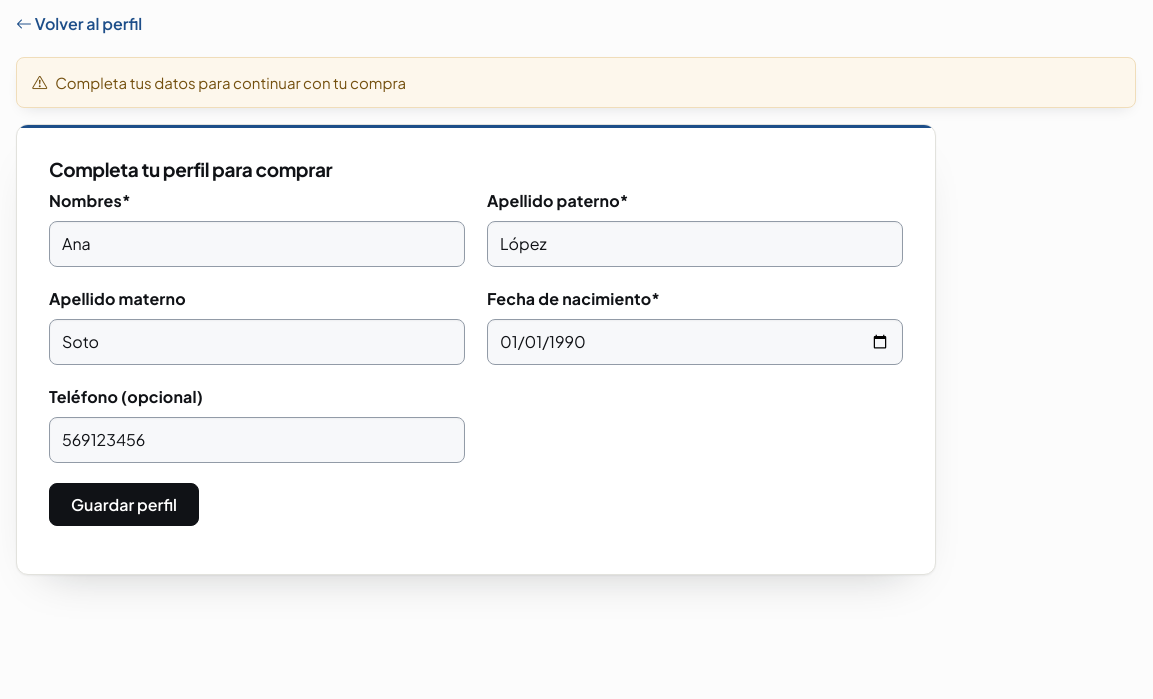
CustomerProfile › muestra un aviso para el comprador si el backend conserva perfilCompleto en false
This screenshot has width=1153, height=699.
expect the date field labelled "Fecha de nacimiento*" is shown: met, box [487, 319, 903, 365]
Click the button "Guardar perfil". click: (124, 504)
box: [49, 483, 199, 526]
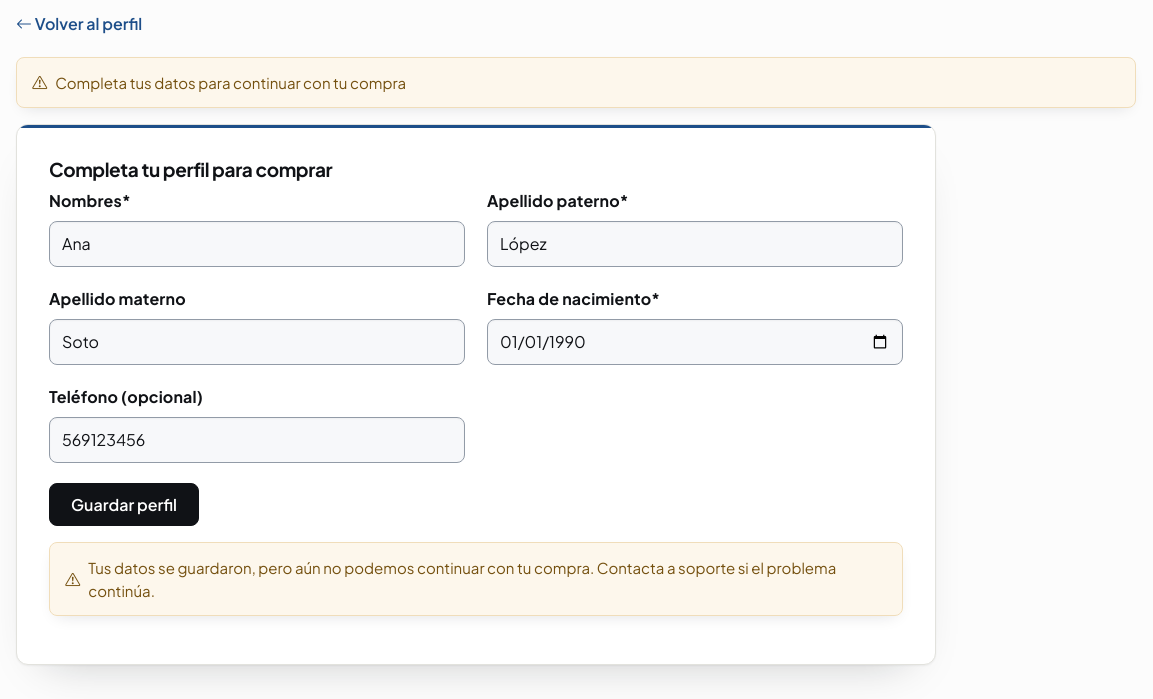
expect the text "Tus datos se guardaron, pero aún no podemos continuar con tu compra. Contacta a soporte si el problema continúa." is shown: met, box [88, 558, 836, 600]
